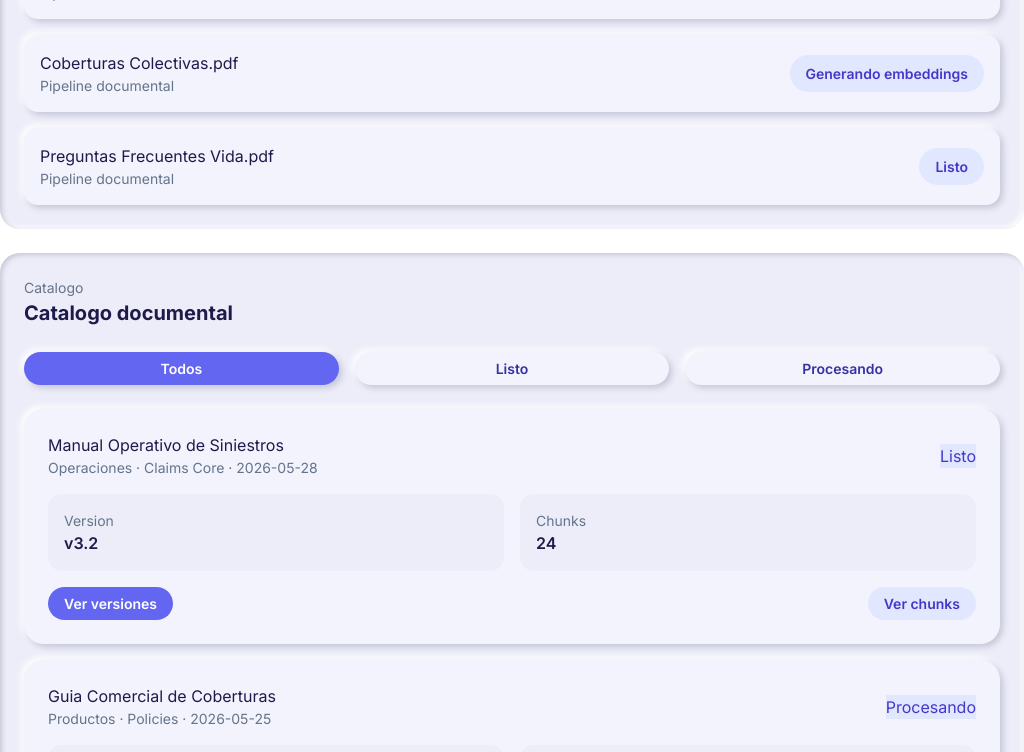
Scenario: AdminDocumentsShellComponent › should keep filter state, initial selection and shell rendering aligned without services
The image size is (1024, 752).
(page scrolled)
Click the button with test id "document-filter" showing "Procesando" at (843,368), box [685, 352, 1000, 385]
(page scrolled)
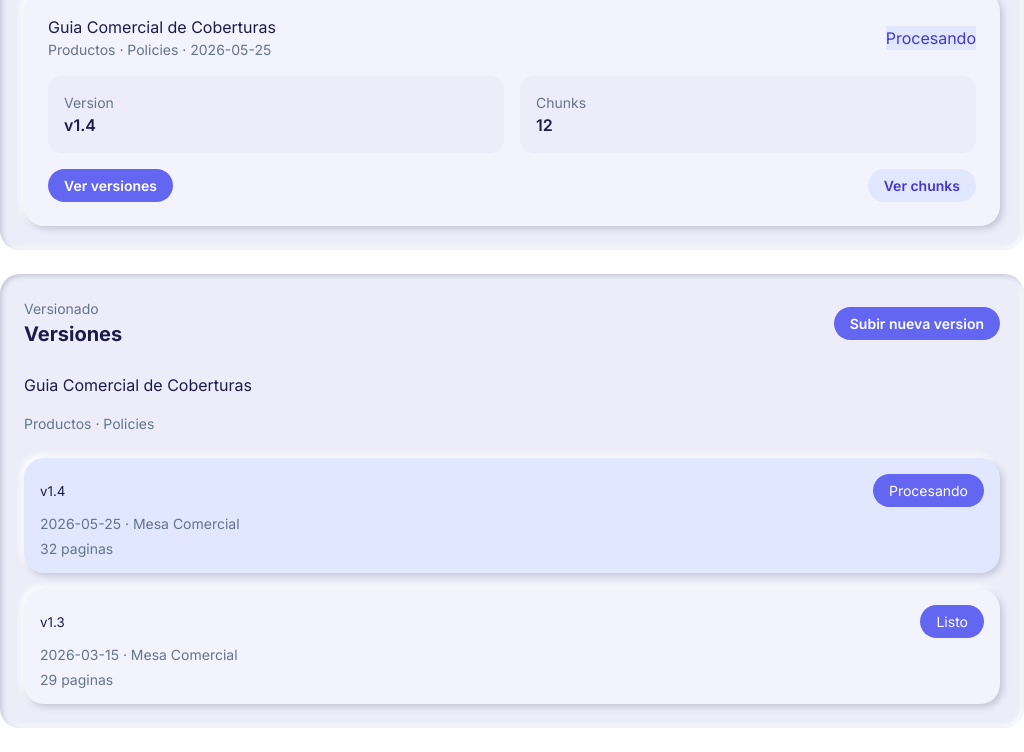
expect the element with test id "versions-region" shows "Guia Comercial de Coberturas": met, box [24, 375, 252, 395]
expect the text with test id "versions-region" no longer shows "Manual Operativo de Siniestros": met
